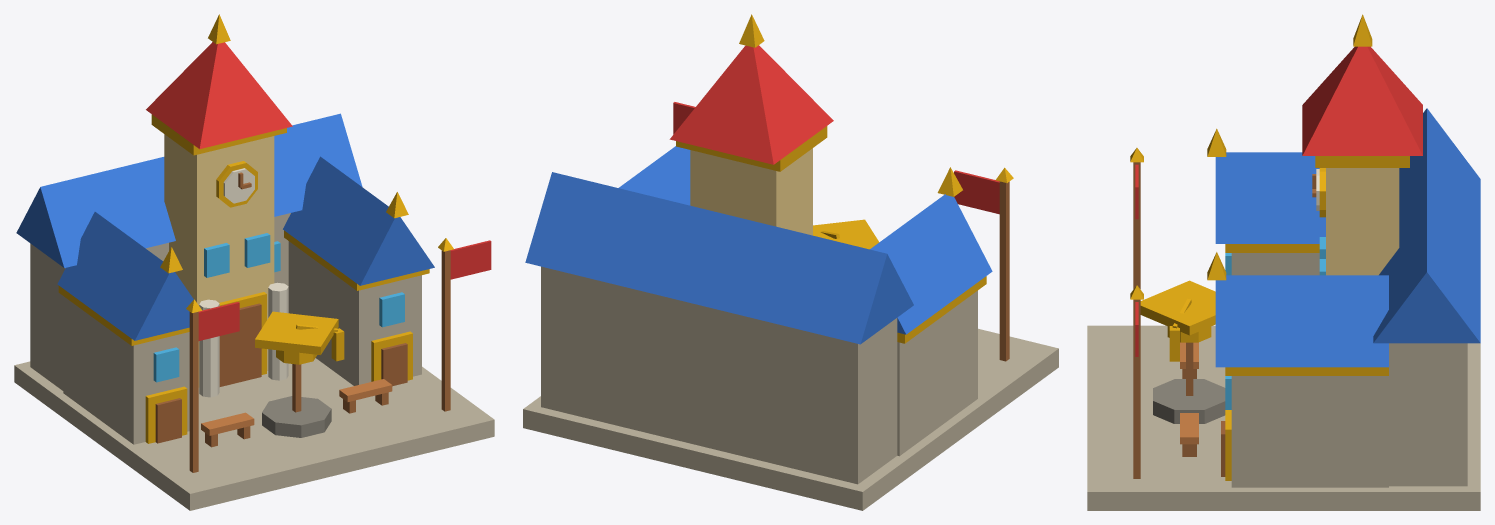
The model's file is university_t3_v1.glb.
The picture shows the model from 3 angles, left to right: view 1: azimuth 30°, elevation 25°; view 2: azimuth 150°, elevation 25°; view 3: azimuth 270°, elevation 25°; orthographic projection. The views are drawn at different scales.
Visible parts, largest first — view 1: university_t3_v1; view 2: university_t3_v1; view 3: university_t3_v1.
Part boxes in pixels (box(x1,y1,x2,y2)): university_t3_v1: box(14, 14, 494, 510); university_t3_v1: box(523, 14, 1058, 510); university_t3_v1: box(1087, 14, 1480, 510).
Size of the model in its own units: 0.795 by 0.87 by 0.75.
1 material, 1 textured.
